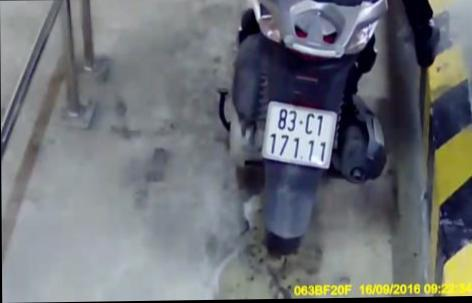LP: (267, 99, 337, 171)
